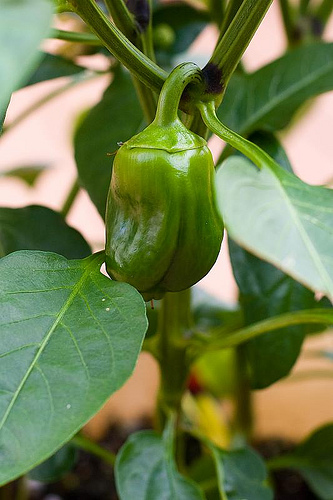capsicum: (102, 58, 225, 298)
